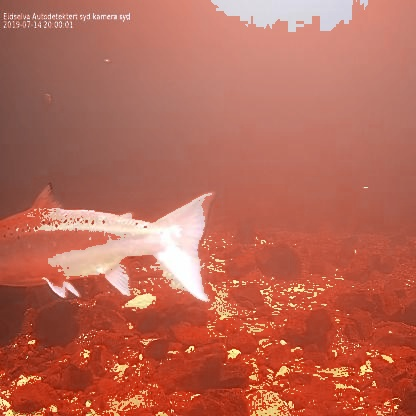salmon: (0, 180, 219, 305)
